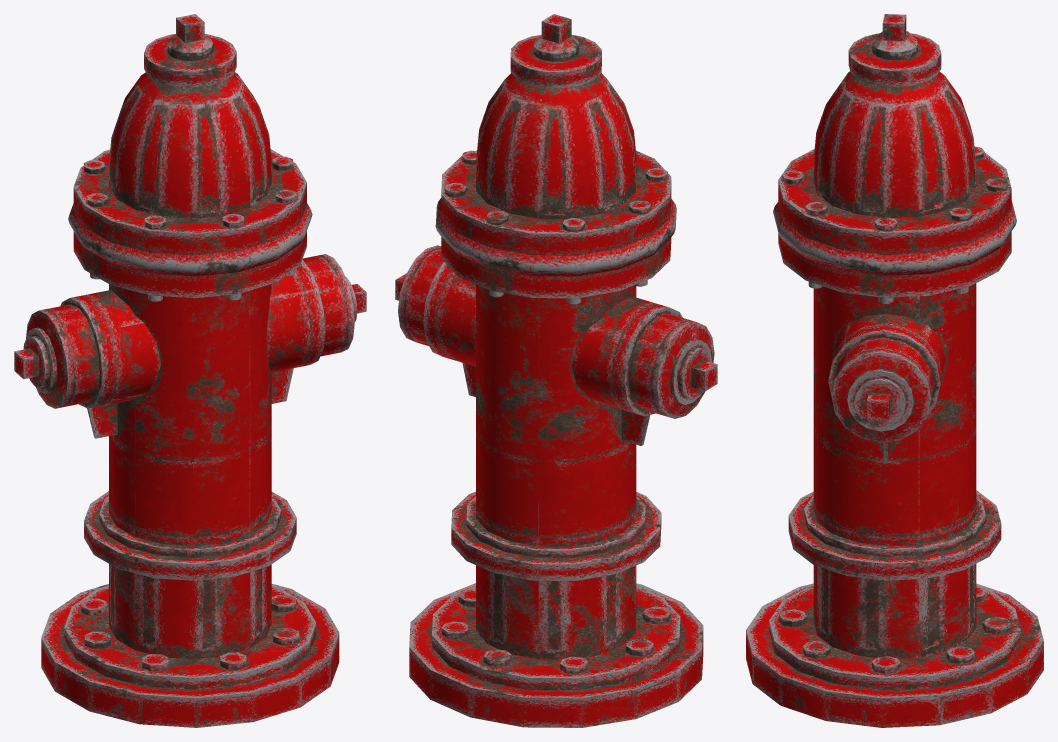
File: hydrant.FBX
3 renders of one model, left to right at view 1: azimuth 30°, elevation 25°; view 2: azimuth 150°, elevation 25°; view 3: azimuth 270°, elevation 25°, orthographic.
Parts seen in each view (by area): view 1: fire_hydrant; view 2: fire_hydrant; view 3: fire_hydrant.
Boxes of the visible parts, bbox=[...] form: fire_hydrant: bbox=[14, 14, 366, 727]; fire_hydrant: bbox=[395, 14, 717, 727]; fire_hydrant: bbox=[746, 14, 1043, 727].
Size of the model in its own units: 52.31 by 98.26 by 41.05.
1 material, 1 textured.
